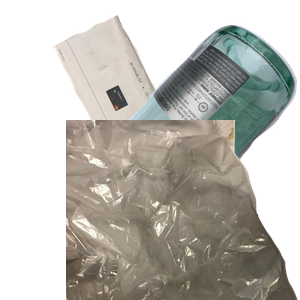glass: (86, 22, 300, 202)
paper: (51, 13, 230, 186)
plastic: (81, 179, 239, 300)
trash: (66, 120, 300, 300)
